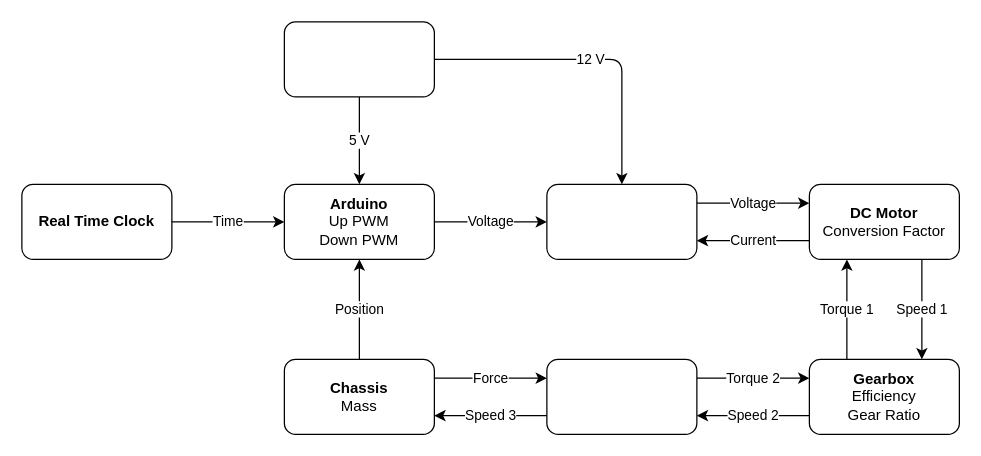
The diagram is 981 pixels wide and 456 high, and some of its shapes have lost their labels. Here are the shapes that lost their labels. From the top down, the centre of each, then its label:
the point at 358,59: Power Supply Unit
the point at 621,221: H-Bridge Scaling Factor
the point at 621,396: Gear Feet Efficiency Radius
